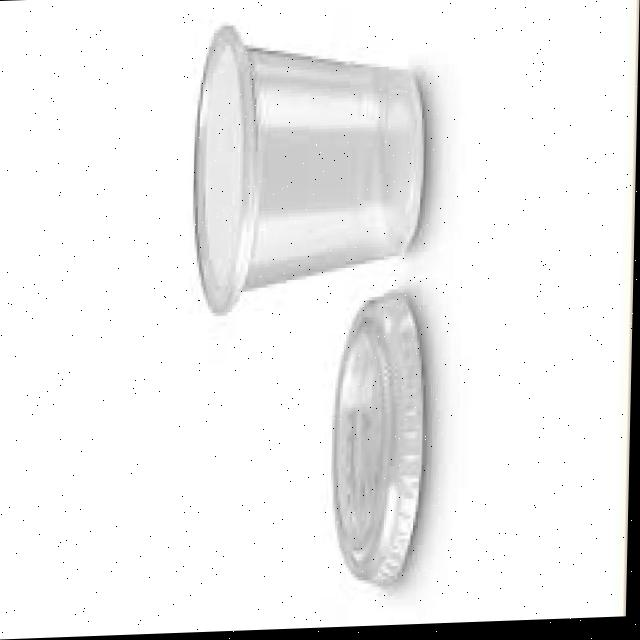cup: (165, 12, 478, 325)
